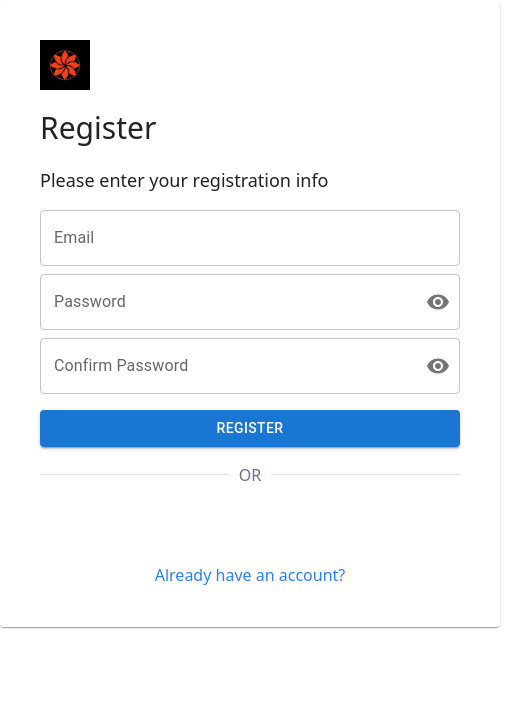
it: SignUpPage - User Flows › Form Validation › shows validation errors for empty required fields
This screenshot has width=518, height=714.
# Try to submit empty form
Click the button "Register" at x=250, y=428, box [40,410,460,446]
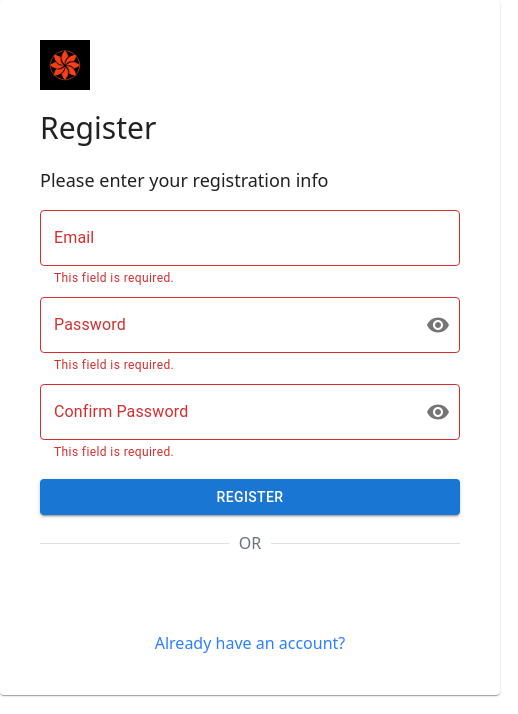
Check: the text "This field is required." below "Email" is shown, box [54,271,174,285]
